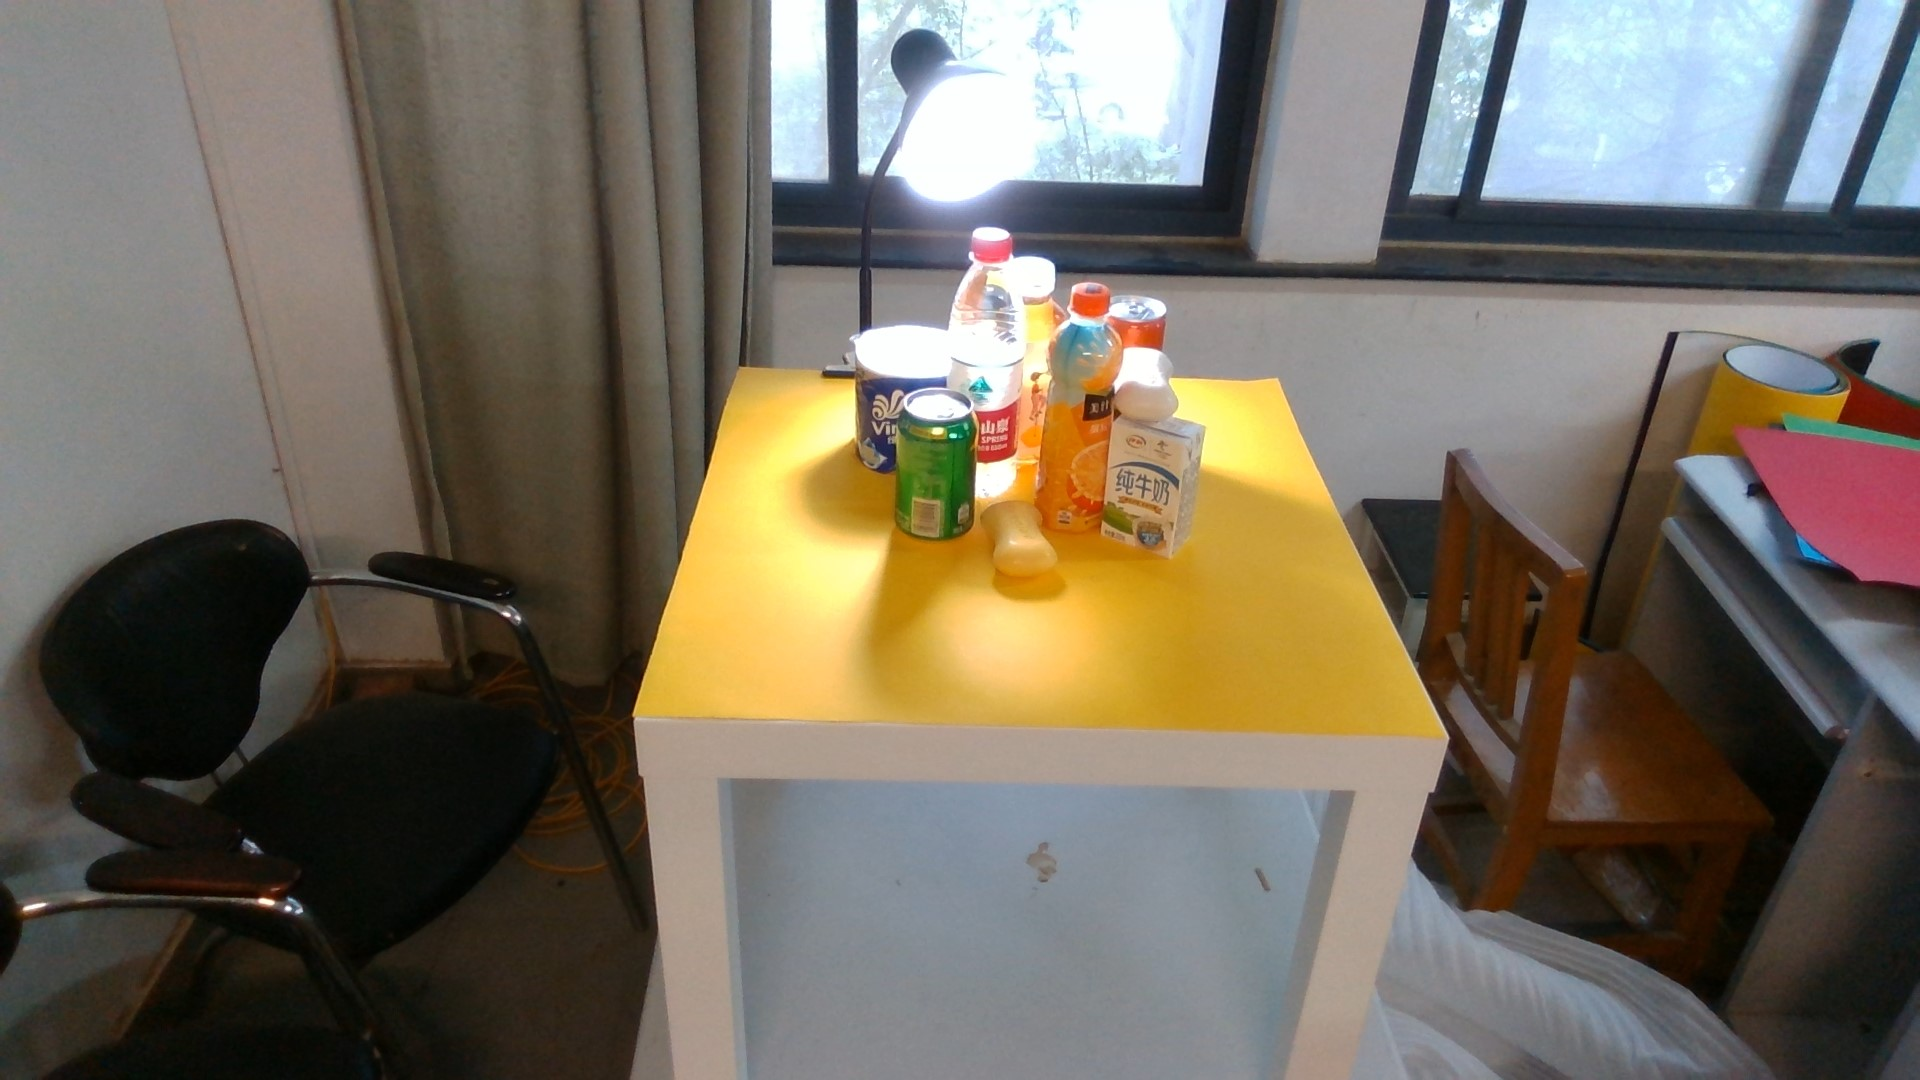BB003: (978, 498, 1059, 580), (1124, 344, 1178, 421)
BB013: (1105, 421, 1204, 556)
CA002: (852, 320, 894, 469)
ZC001: (897, 389, 975, 546)
ZC003: (1120, 295, 1170, 344)
ZC006: (1047, 278, 1098, 530)
ZC012: (1022, 255, 1044, 462)
ZC014: (975, 220, 1026, 498)
